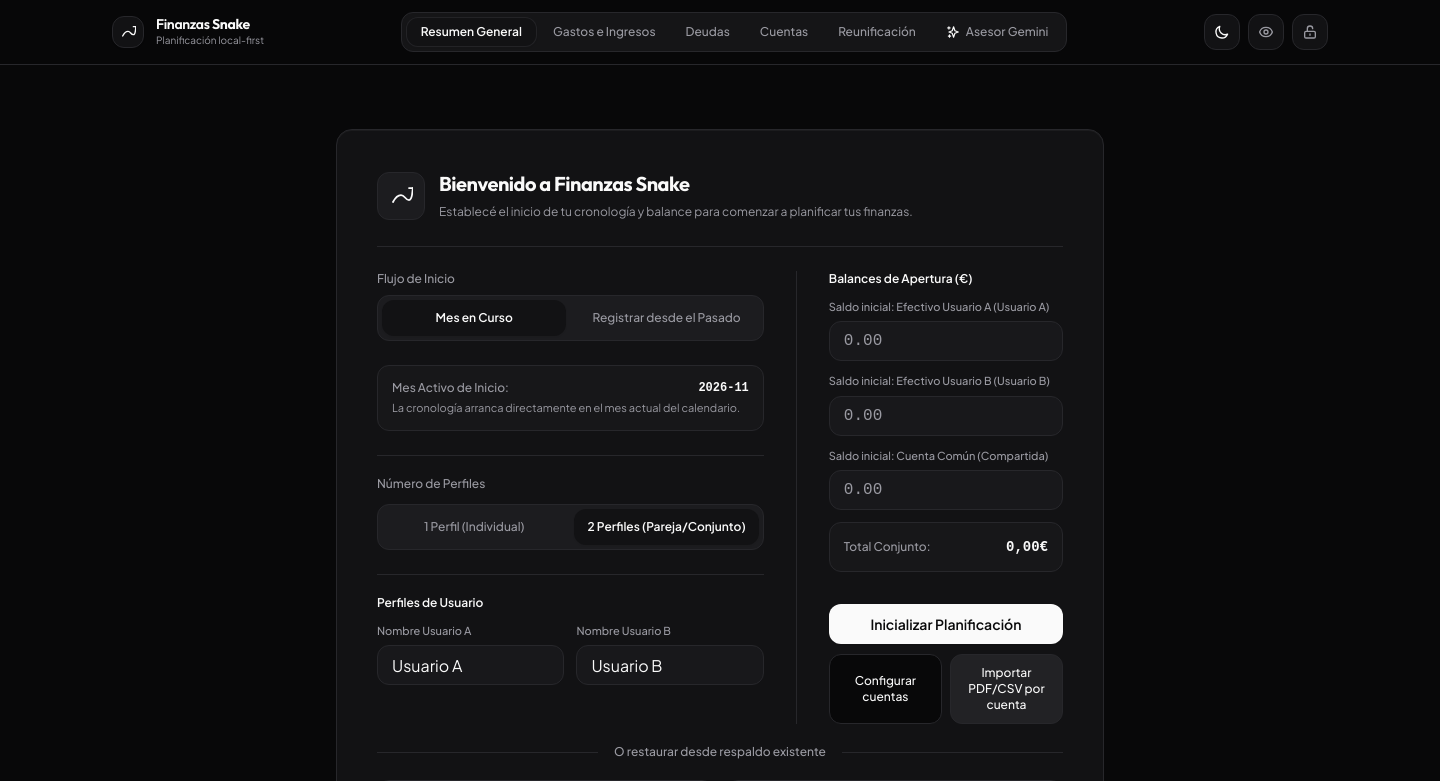
Test: configuración del PIN desde la interfaz › debe abrir la pantalla de configuración y mantenerla hasta que la persona decida
expect the heading "Bienvenido a Finanzas Snake" is shown: met, box x1=439 y1=171 x2=690 y2=196
Click the button "Inicializar Planificación". click: [946, 624]
box: x1=829 y1=604 x2=1063 y2=644
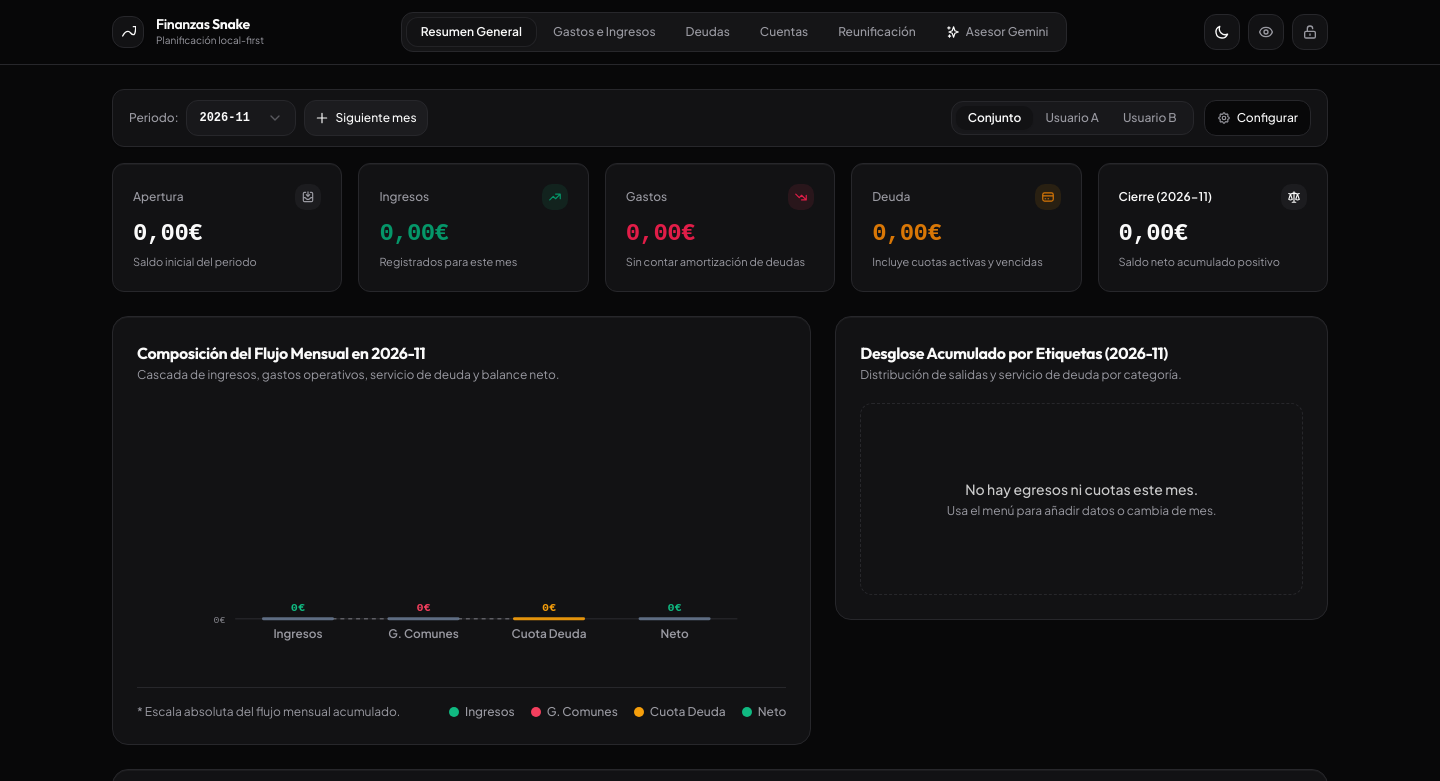
Click the button named "Configurar PIN de Seguridad". click: [1310, 32]
box: x1=1292 y1=14 x2=1328 y2=50
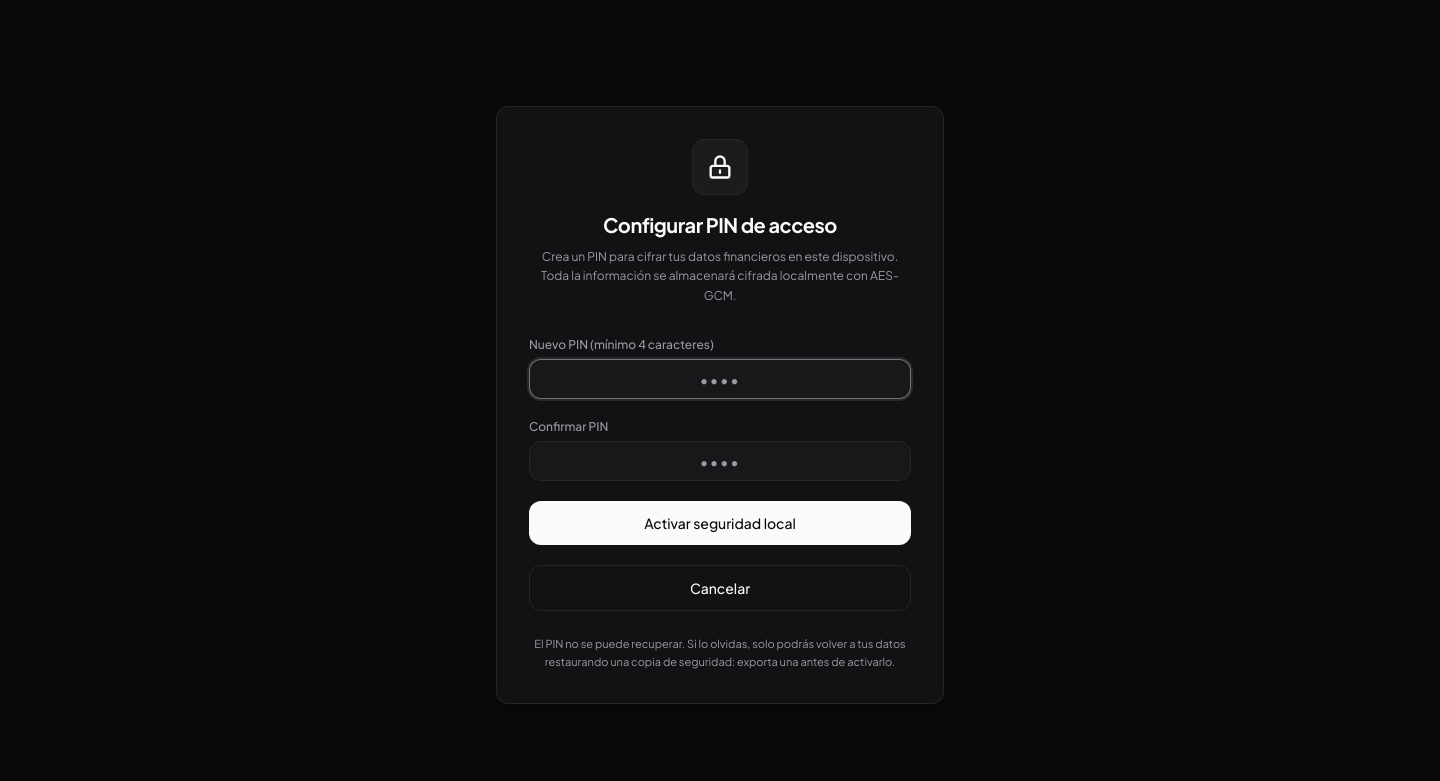
expect the heading "Configurar PIN de acceso" is shown: met, box x1=603 y1=212 x2=837 y2=237
expect the text "no se puede recuperar" is shown: met, box x1=534 y1=637 x2=906 y2=668
